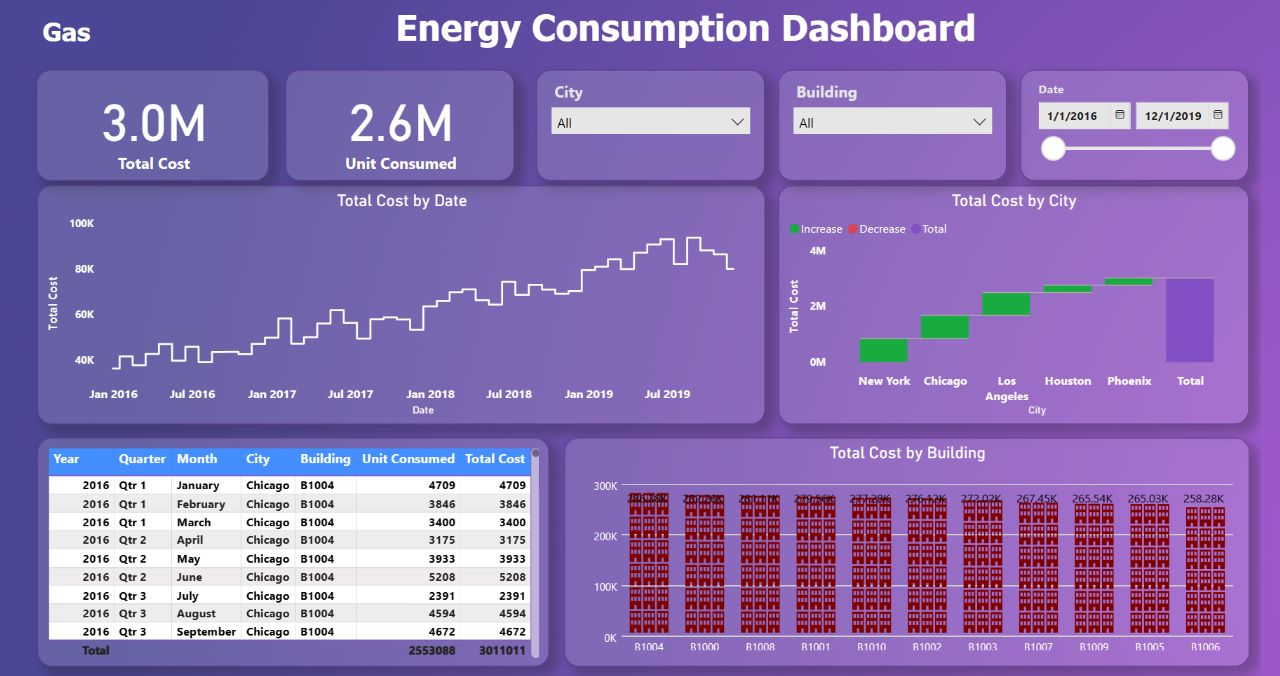

The dashboard page shown, as its layout file describes it:
{"tool":"powerbi","page":{"name":"GAS","canvas":[1280,720],"ordinal":3},"visuals":[{"type":"textbox","box":[378.3,12.7,629.4,57.2],"z":1000},{"type":"card","fields":{"Values":["Measures_Table.Total Cost"]},"box":[11,85.6,240.8,114.9],"z":2000},{"type":"slicer","fields":{"Values":["Building Master.City"]},"box":[529.3,85.6,237.1,114.9],"z":3000},{"type":"slicer","fields":{"Values":["Energy Consumptions.Date"]},"box":[1030.5,85.6,237.1,114.9],"z":4000},{"type":"slicer","fields":{"Values":["Energy Consumptions.Building"]},"box":[779.9,85.6,237.1,114.9],"z":5000},{"type":"card","fields":{"Values":["Measures_Table.Unit Consumed"]},"box":[268.9,85.6,237.1,114.9],"z":9000},{"type":"lineChart","fields":{"Category":["Energy Consumptions.Date"],"Y":["Measures_Table.Total Cost"]},"box":[12,205.3,754.7,248.1],"z":10000},{"type":"textbox","box":[12.2,24.4,223.7,45.2],"z":11000},{"type":"tableEx","fields":{"Values":["Energy Consumptions.Date.Variation.Date Hierarchy.Year","Energy Consumptions.Date.Variation.Date Hierarchy.Quarter","Energy Consumptions.Date.Variation.Date Hierarchy.Month","Building Master.City","Building Master.Building","Measures_Table.Unit Consumed","Measures_Table.Total Cost"]},"box":[12,467.2,530.5,237.9],"z":13000},{"type":"PBI_CV_73744D90_4DC9_4F18_8BA5_EE8FA5C98035","fields":{"Values":["Measures_Table.Total Cost"],"Category":["Energy Consumptions.Building"]},"box":[557.9,467.2,710.2,237.9],"z":15000},{"type":"waterfallChart","fields":{"Category":["Building Master.City"],"Y":["Measures_Table.Total Cost"]},"box":[780.3,205.3,487.7,248.1],"z":16000}]}

Visuals, with their boxes on the page's 1280x720 design canvas (x1, y1, x2, y2). These are canvas units, not pixel positions in the 1280x676 screenshot, which may show the page scaled, cropped or inside an application window:
textbox: (378, 13, 1008, 70)
card - Measures_Table.Total Cost: (11, 86, 252, 200)
slicer - Building Master.City: (529, 86, 766, 200)
slicer - Energy Consumptions.Date: (1030, 86, 1268, 200)
slicer - Energy Consumptions.Building: (780, 86, 1017, 200)
card - Measures_Table.Unit Consumed: (269, 86, 506, 200)
lineChart - Energy Consumptions.Date x Measures_Table.Total Cost: (12, 205, 767, 453)
textbox: (12, 24, 236, 70)
tableEx - Energy Consumptions.Date.Variation.Date Hierarchy.Year x Energy Consumptions.Date.Variation.Date Hierarchy.Quarter: (12, 467, 542, 705)
PBI_CV_73744D90_4DC9_4F18_8BA5_EE8FA5C98035 - Measures_Table.Total Cost x Energy Consumptions.Building: (558, 467, 1268, 705)
waterfallChart - Building Master.City x Measures_Table.Total Cost: (780, 205, 1268, 453)
